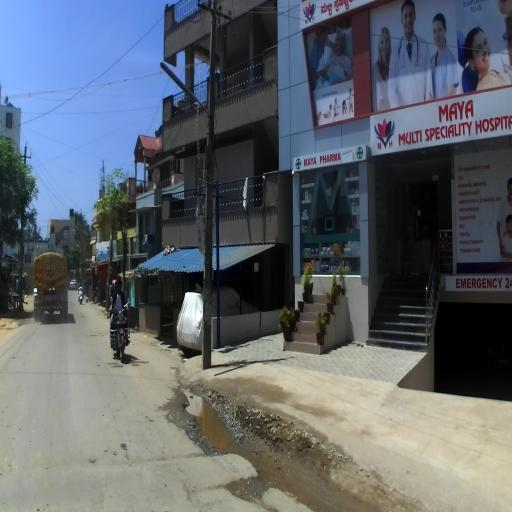street_light_0: (160, 61, 215, 136)
